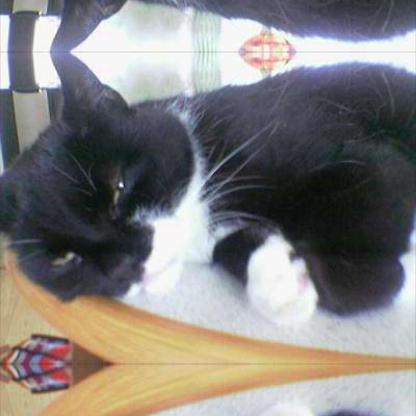Cat: (0, 52, 414, 324)
